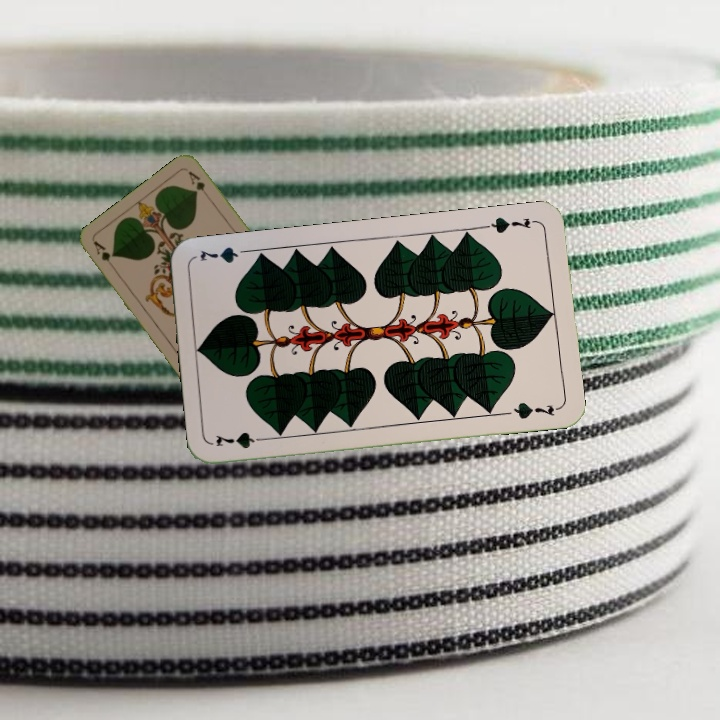G7: (212, 428, 271, 452), (481, 213, 540, 236)
GA: (90, 237, 119, 273)
